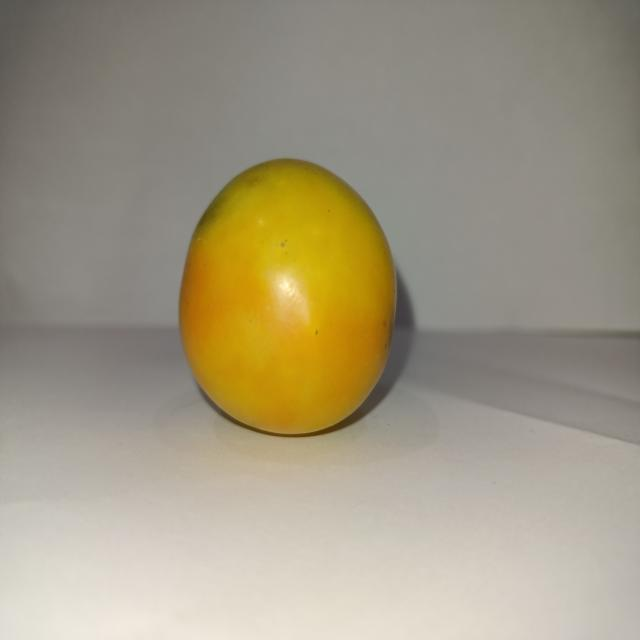Red: (177, 156, 398, 437)
